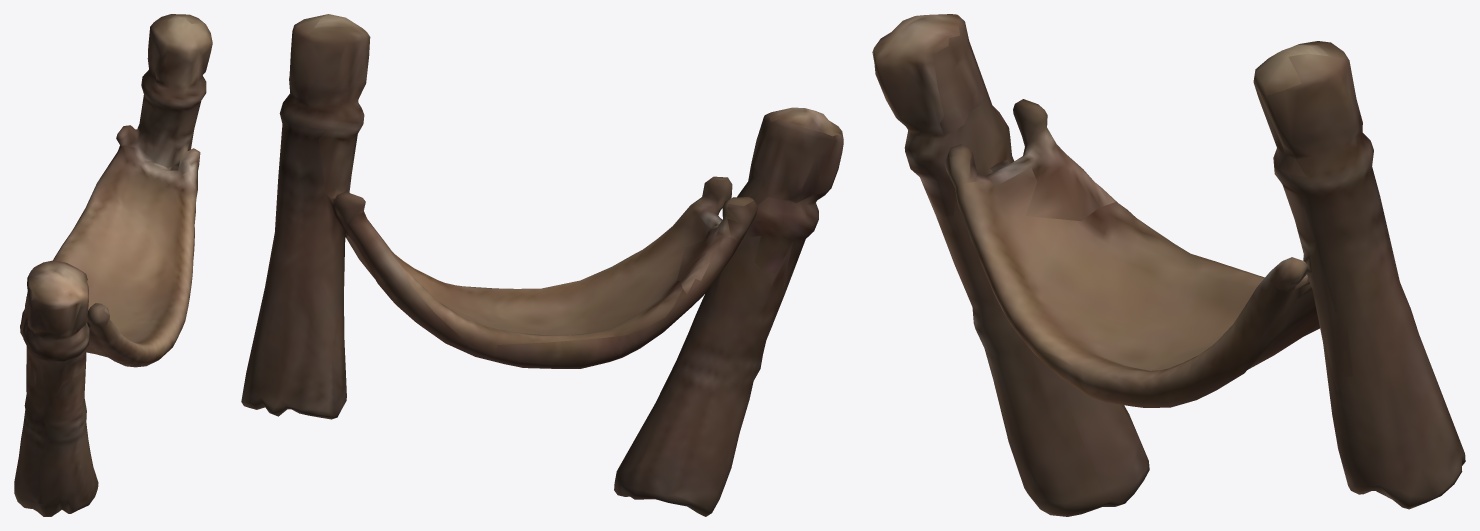
The model's file is v01_rede_dormir.glb.
3 views of the same model, side by side, from view 1: azimuth 30°, elevation 25°; view 2: azimuth 150°, elevation 25°; view 3: azimuth 270°, elevation 25° (orthographic). The views are drawn at different scales.
Parts seen in each view (by area): view 1: v01_rede_dormir; view 2: v01_rede_dormir; view 3: v01_rede_dormir.
Part boxes in pixels (x1=…): v01_rede_dormir: x1=14, y1=14, x2=212, y2=516; v01_rede_dormir: x1=241, y1=14, x2=843, y2=516; v01_rede_dormir: x1=872, y1=14, x2=1465, y2=516.
Size of the model in its own units: 0.4953 by 0.5978 by 0.5345.
Materials: 1 (1 with a texture image).
